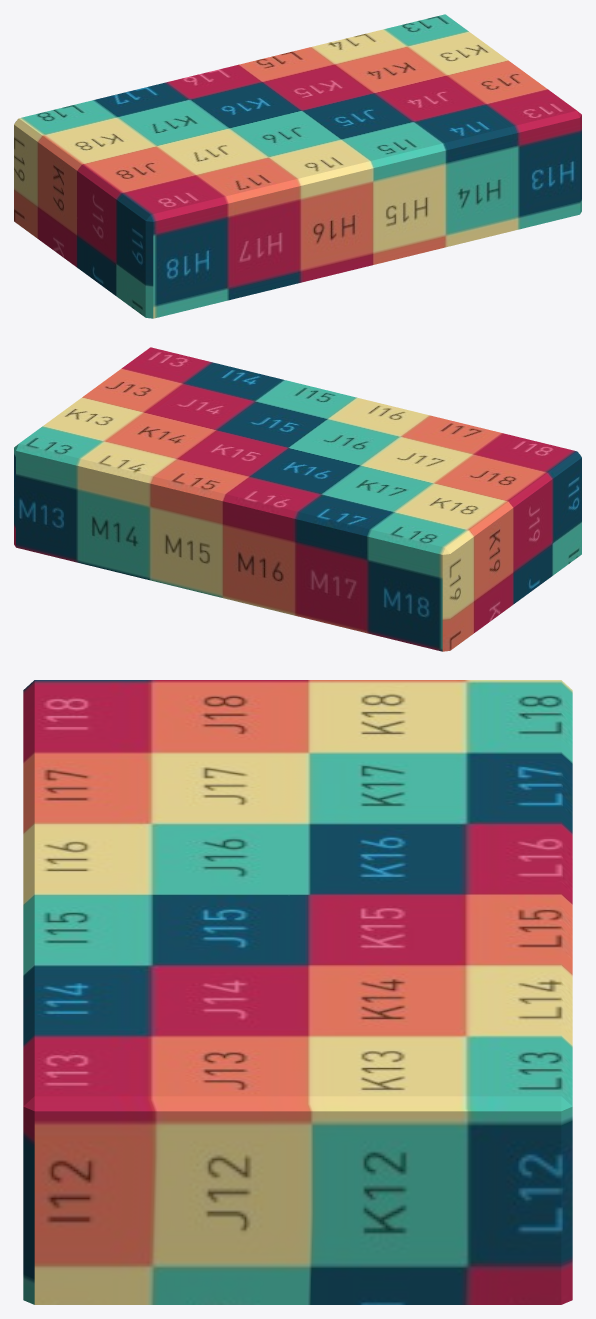
File: bgame_5.fbx
3 views of the same model, one above another, from view 1: azimuth 30°, elevation 25°; view 2: azimuth 150°, elevation 25°; view 3: azimuth 270°, elevation 25° (orthographic). The views are drawn at different scales.
Parts seen in each view (by area): view 1: bored_game8; view 2: bored_game8; view 3: bored_game8.
Part boxes in pixels (<box>): bored_game8: <box>14,14,581,318</box>; bored_game8: <box>14,347,581,651</box>; bored_game8: <box>23,680,572,1304</box>.
Bounding box in the file's own units: 30.79 × 6.87 × 16.79.
